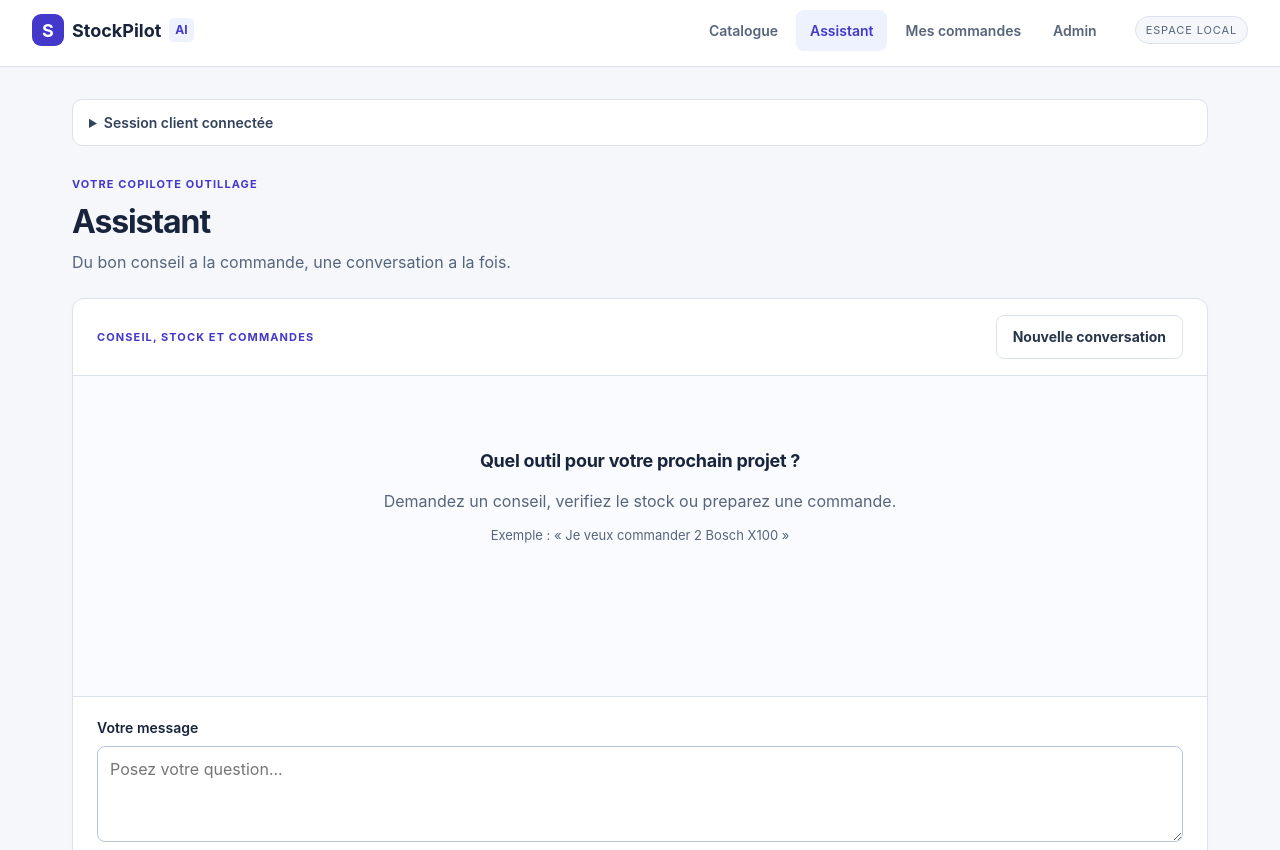
Test: navigates between client pages while preserving the assistant thread and transcript
Type "Bonjour" into the text box labelled "Votre message" at (640, 794), box x1=97 y1=746 x2=1183 y2=842
(page scrolled)
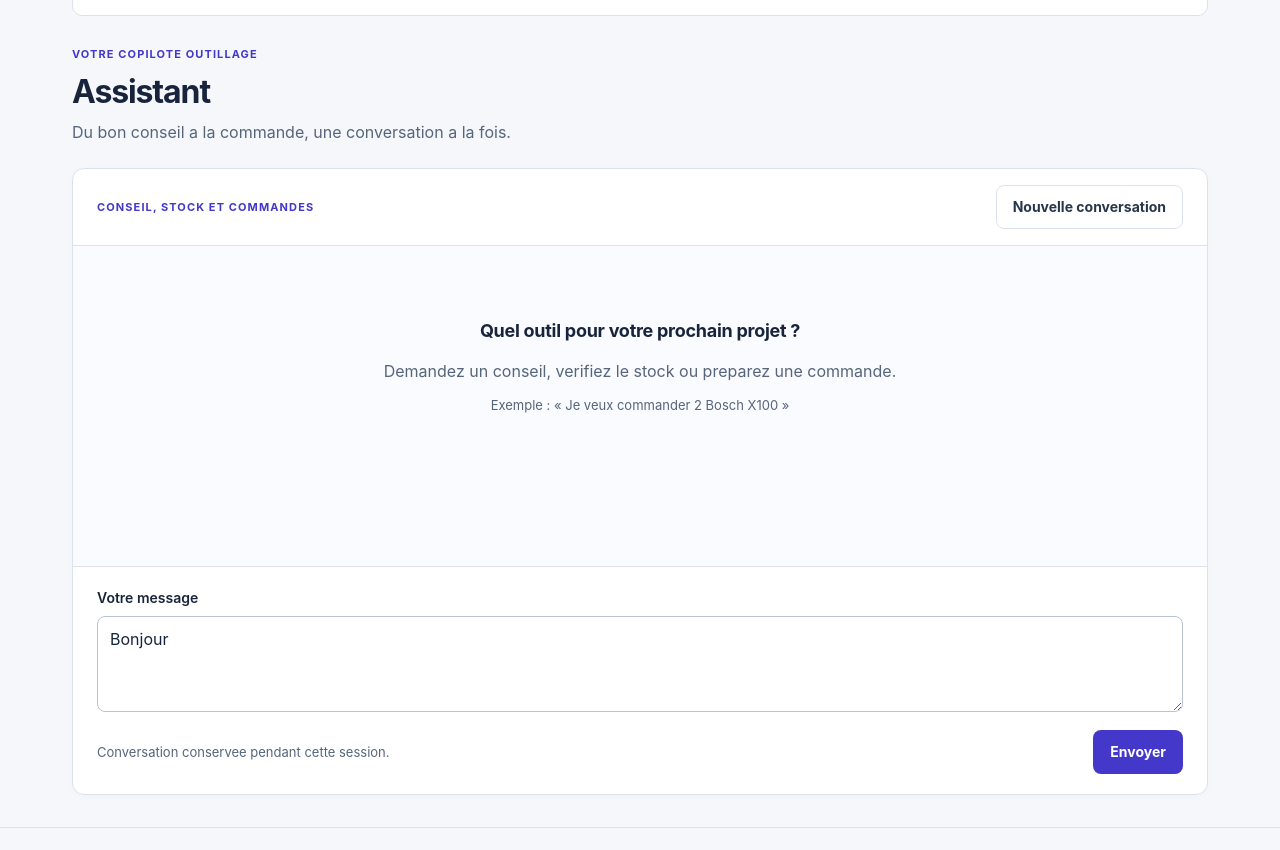
Submit the form with class "composer", box x1=73 y1=566 x2=1207 y2=794
(page scrolled)
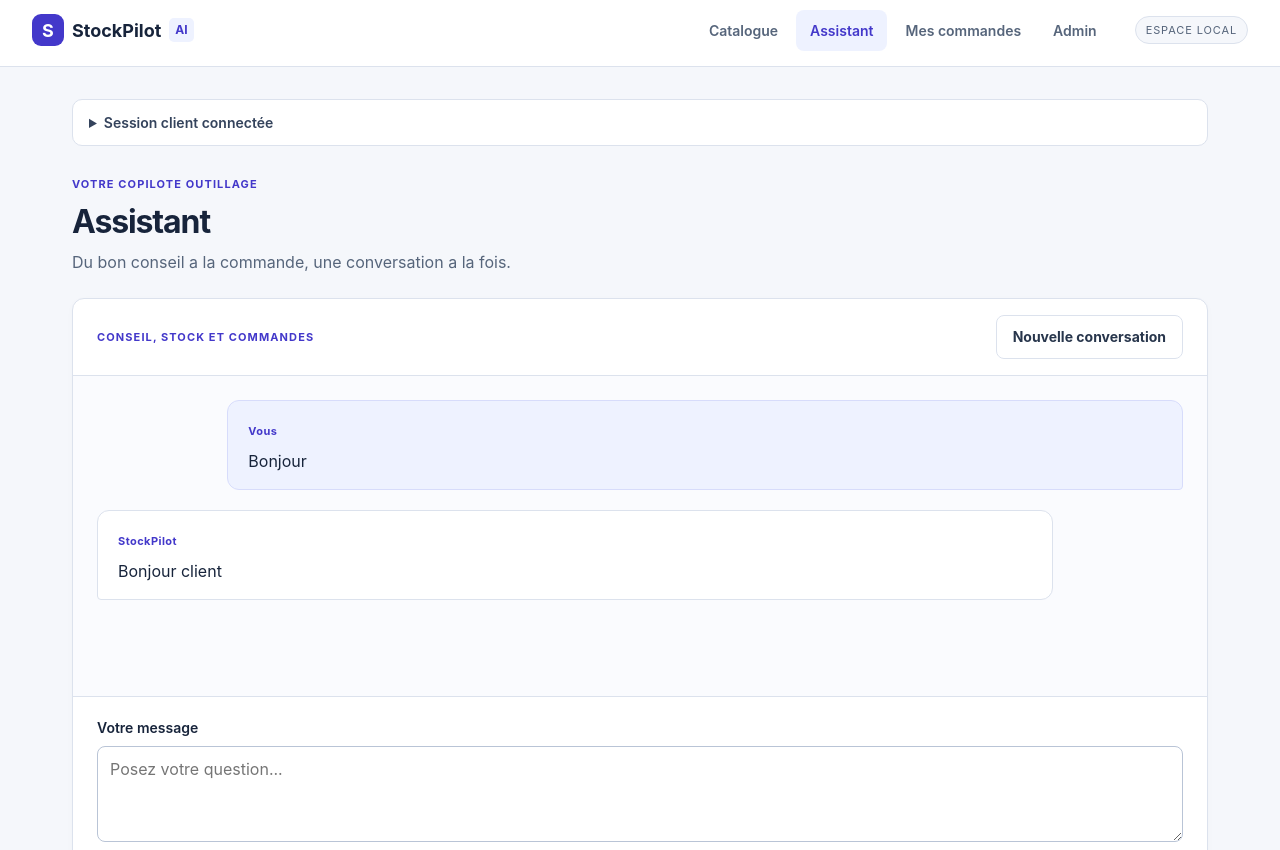
Click the link to "/orders" at (963, 30), box x1=906 y1=22 x2=1021 y2=38
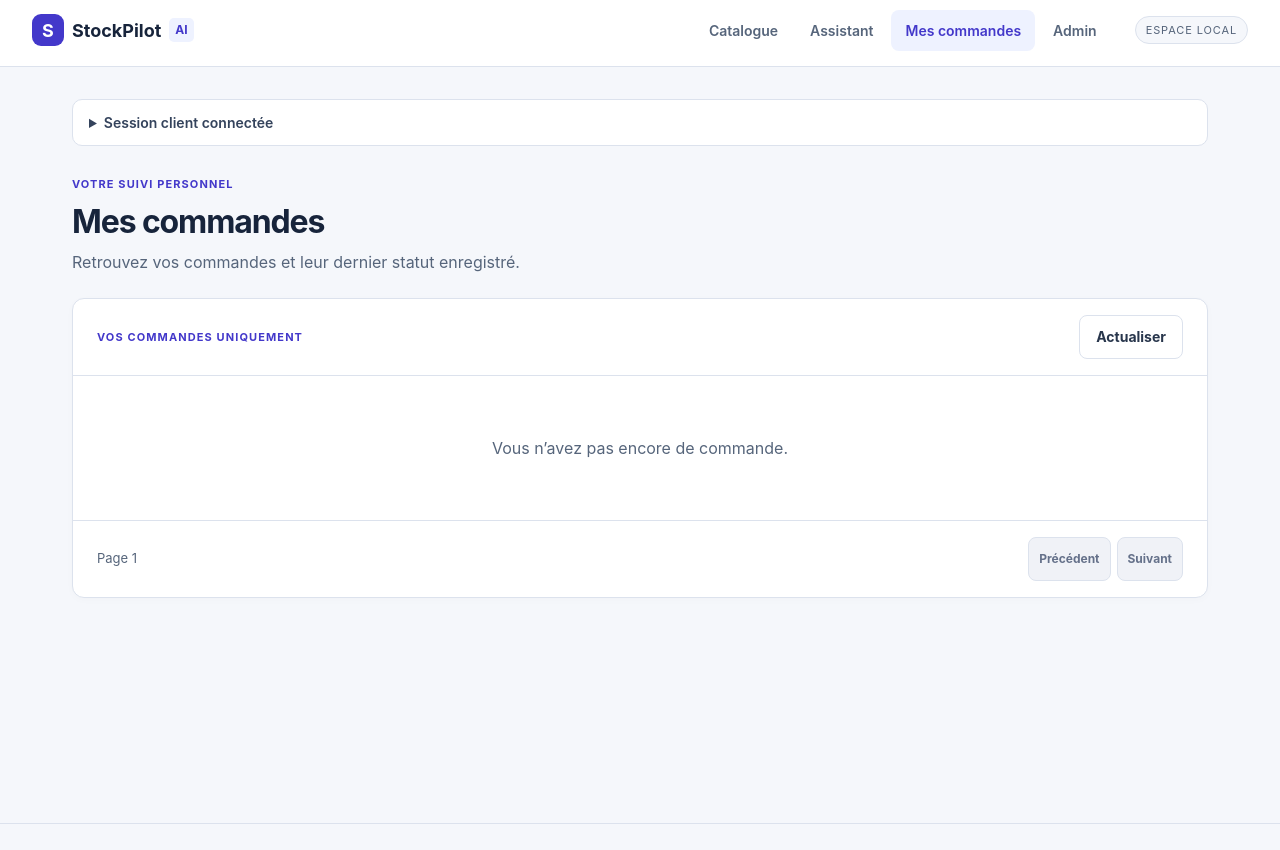
Result: the heading "Mes commandes" is shown at x1=72 y1=202 x2=324 y2=241
Click the link to "/assistant" at (842, 30), box x1=810 y1=22 x2=874 y2=38
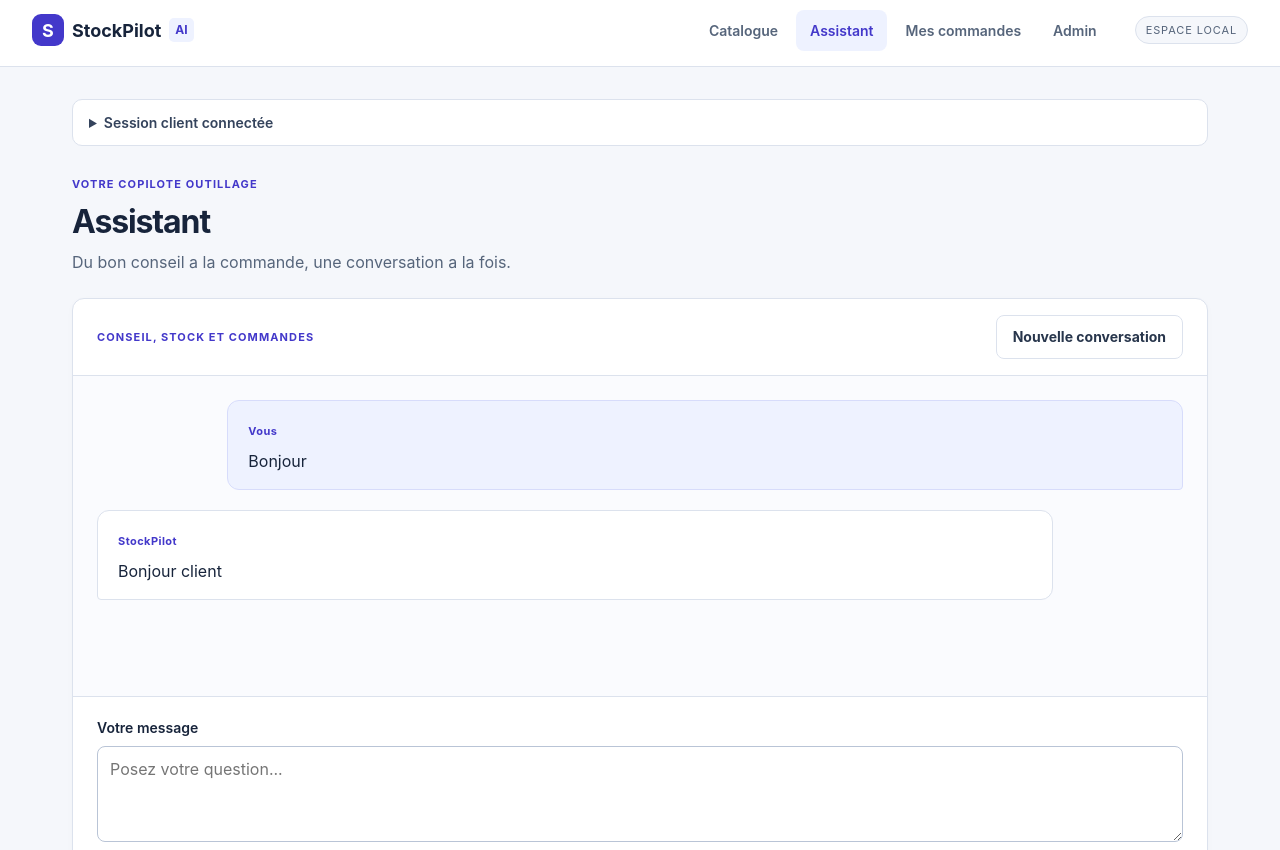
Result: the heading "Assistant" is shown at x1=72 y1=202 x2=210 y2=241
Result: the text "Bonjour client" is shown at x1=118 y1=561 x2=222 y2=581
Click the link to "/admin/orders" at (1075, 30), box x1=1053 y1=22 x2=1097 y2=38
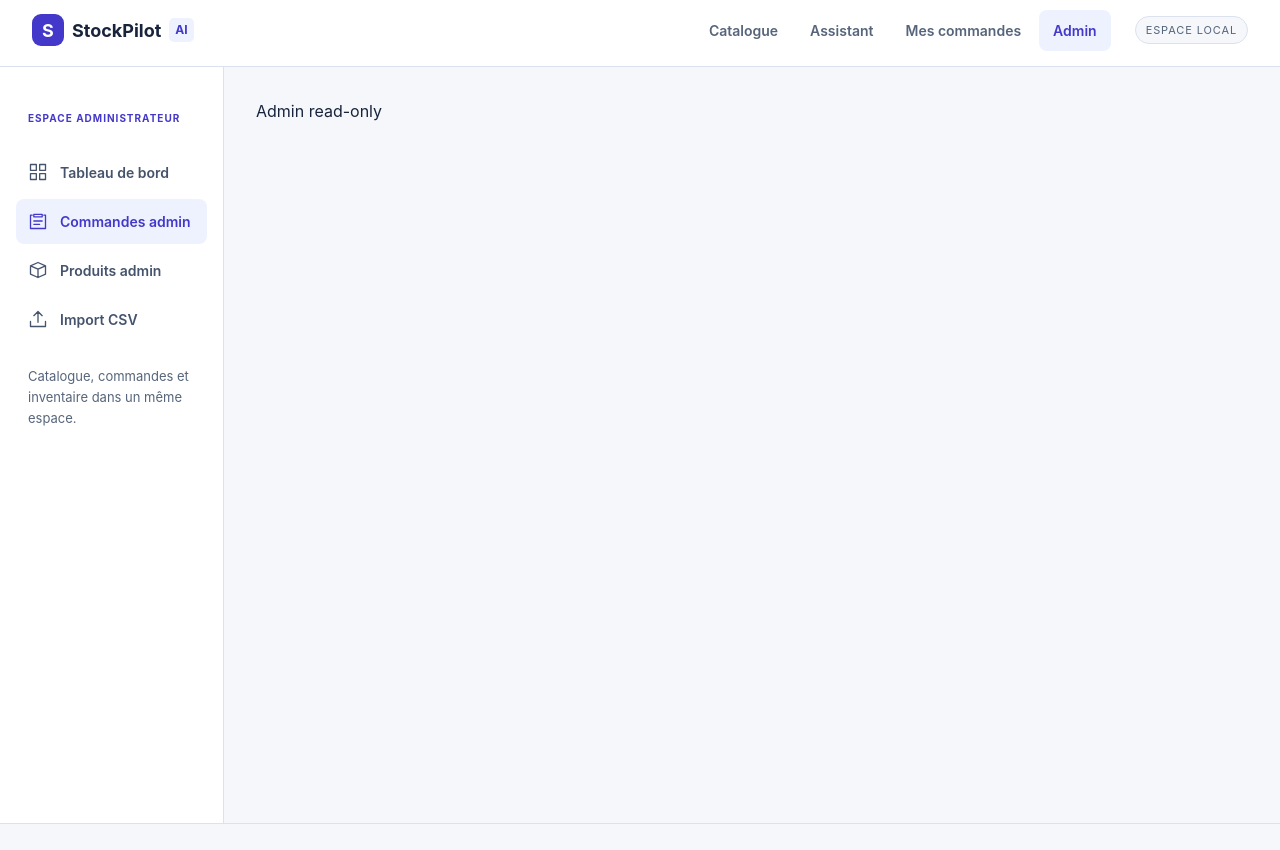
Result: the text "Admin read-only" is shown at x1=256 y1=101 x2=382 y2=121
